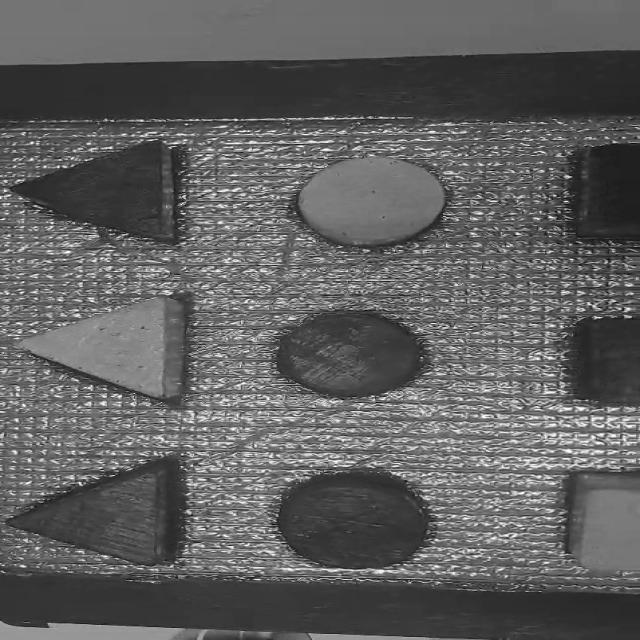bcircle: (268, 462, 453, 583)
bcube: (555, 302, 640, 421)
btriangle: (0, 136, 224, 259)
rcube: (553, 136, 640, 254)
rtriangle: (0, 449, 217, 575)
ycircle: (284, 147, 456, 262)
ycube: (542, 458, 640, 585)
ytriangle: (5, 288, 234, 410)
